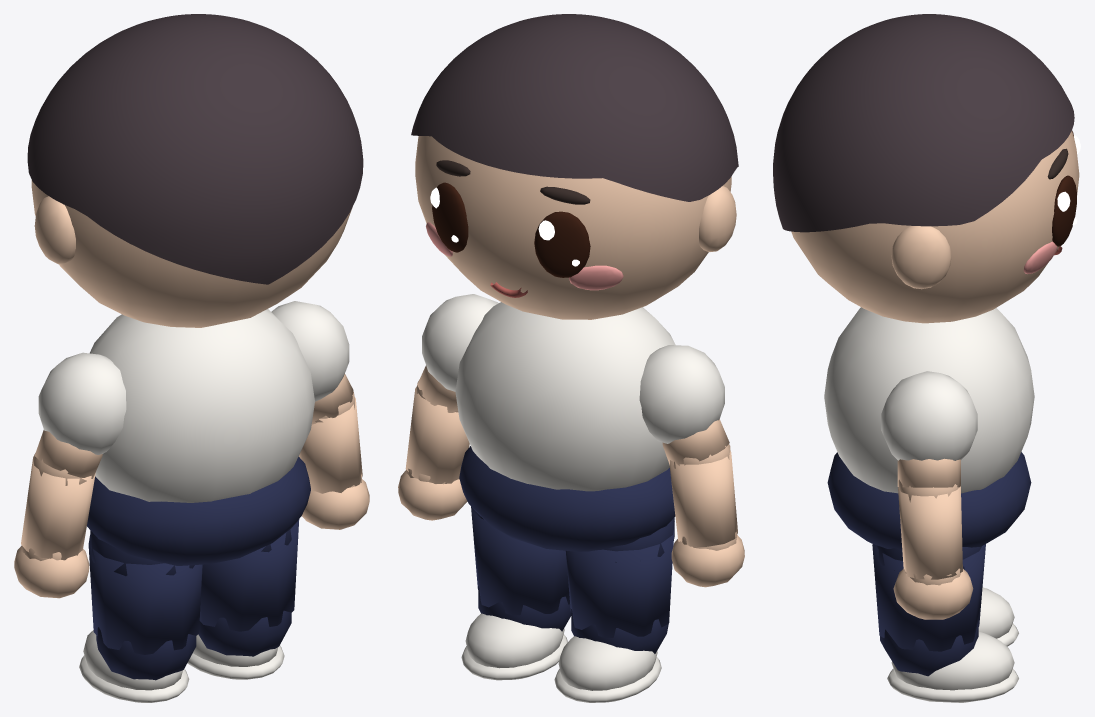
File: player_stand.glb
3 renders of one model, left to right at view 1: azimuth 30°, elevation 25°; view 2: azimuth 150°, elevation 25°; view 3: azimuth 270°, elevation 25°, orthographic. The views are drawn at different scales.
Parts seen in each view (by area): view 1: player_stand; view 2: player_stand; view 3: player_stand.
Part boxes in pixels (x1,y1,x2,y2): player_stand: (14, 14, 369, 702); player_stand: (398, 14, 744, 702); player_stand: (773, 14, 1080, 702).
Bounding box in the file's own units: 0.6888 × 1.25 × 0.5458.
